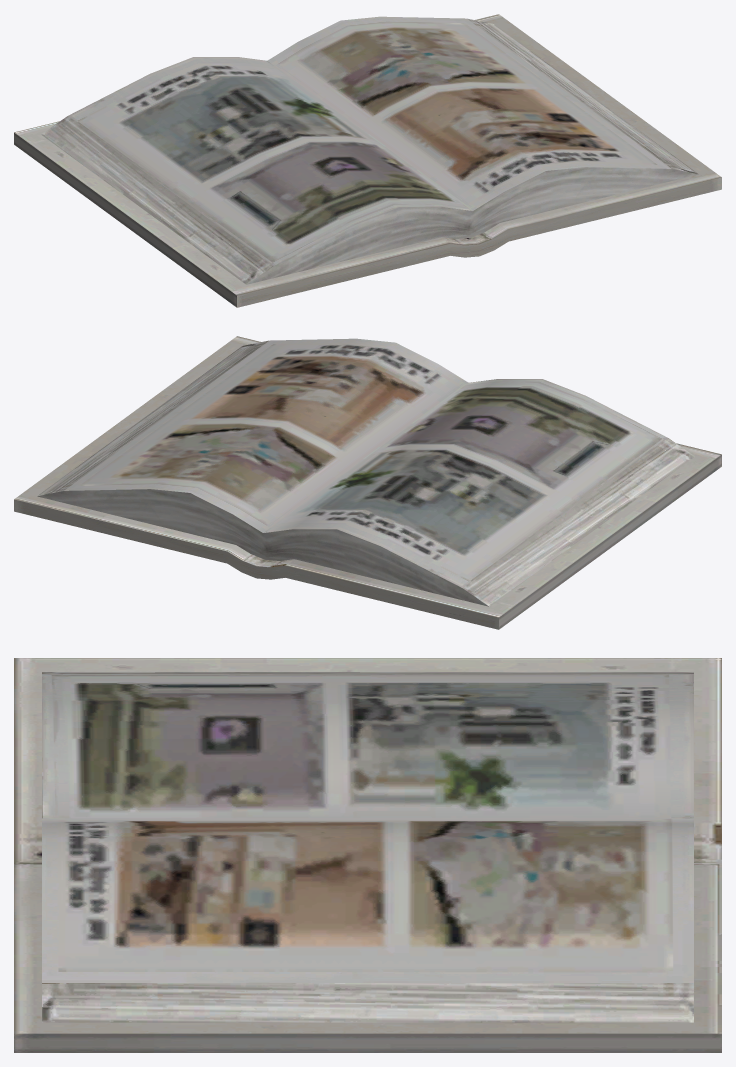
File: magazine_household_open.dae
3 views of the same model, one above another, from view 1: azimuth 30°, elevation 25°; view 2: azimuth 150°, elevation 25°; view 3: azimuth 270°, elevation 25° (orthographic). The views are drawn at different scales.
Parts seen in each view (by area): view 1: magazine_household_open; view 2: magazine_household_open; view 3: magazine_household_open.
Boxes of the visible parts, x1=… form: magazine_household_open: x1=14, y1=14, x2=721, y2=307; magazine_household_open: x1=14, y1=336, x2=721, y2=629; magazine_household_open: x1=14, y1=658, x2=721, y2=1052.
Size of the model in its own units: 0.3689 by 0.0441 by 0.294.
